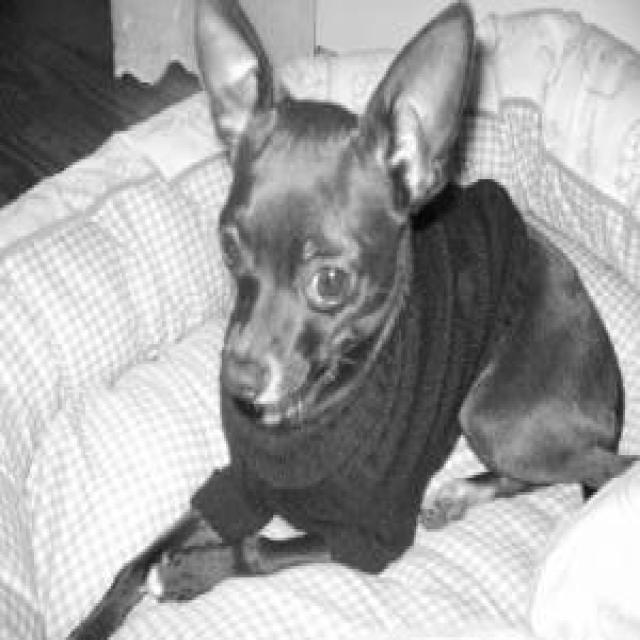dog-chihuahua: (181, 3, 491, 427)
